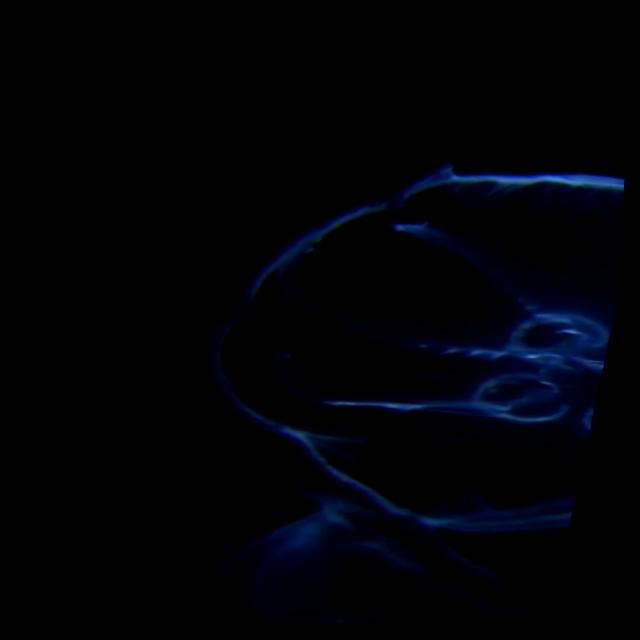Moon-jellyfish: (149, 160, 629, 630)
